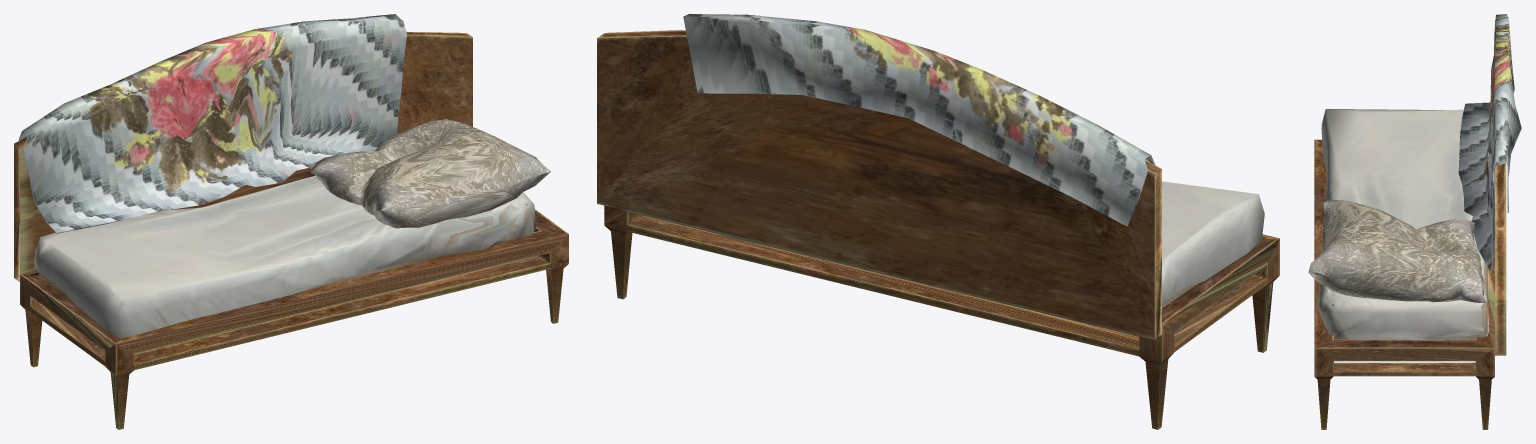
The model's file is vintage-day-bed.glb.
The picture shows the model from 3 angles, left to right: view 1: azimuth 30°, elevation 25°; view 2: azimuth 150°, elevation 25°; view 3: azimuth 270°, elevation 25°; orthographic projection. The views are drawn at different scales.
Visible parts, largest first — view 1: vintage_day_bed; view 2: vintage_day_bed; view 3: vintage_day_bed.
Boxes of the visible parts, bbox=[...] form: vintage_day_bed: bbox=[14, 14, 568, 429]; vintage_day_bed: bbox=[597, 14, 1279, 429]; vintage_day_bed: bbox=[1308, 14, 1521, 429].
Bounding box in the file's own units: 1.97 × 1.13 × 0.8527.
Materials: 1 (1 with a texture image).
